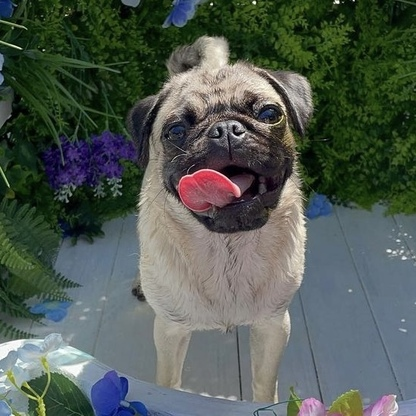Pug: (121, 30, 316, 407)
